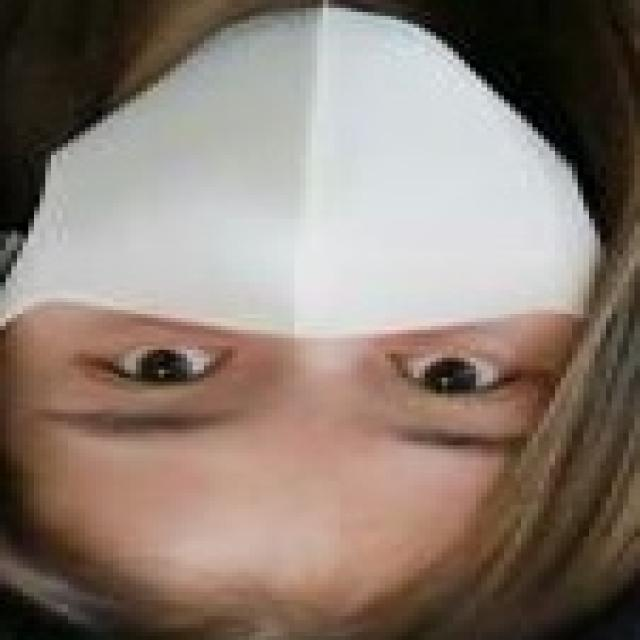mask: (11, 27, 598, 358)
